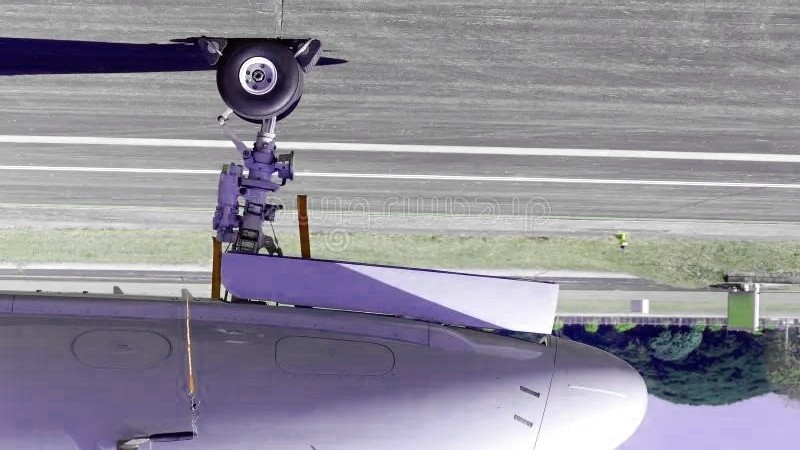chock: (289, 37, 327, 75), (193, 37, 229, 66)
wheel: (215, 37, 307, 126), (231, 91, 302, 126)
